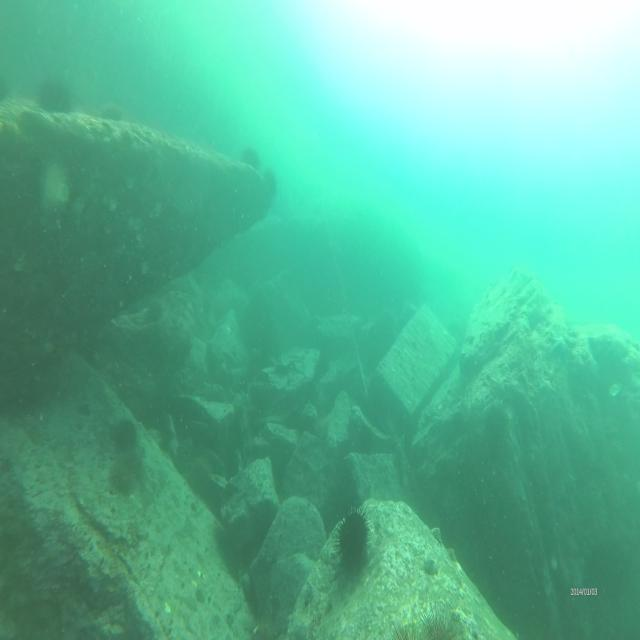echinus: (332, 501, 374, 571), (34, 72, 74, 122), (111, 408, 142, 453), (413, 611, 458, 640), (107, 460, 136, 499), (257, 171, 283, 205), (238, 141, 260, 177), (121, 442, 144, 476), (387, 625, 419, 640)
